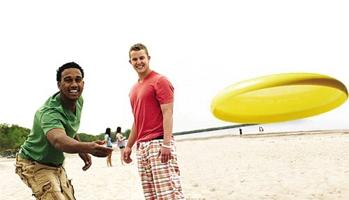person: (15, 62, 114, 200)
